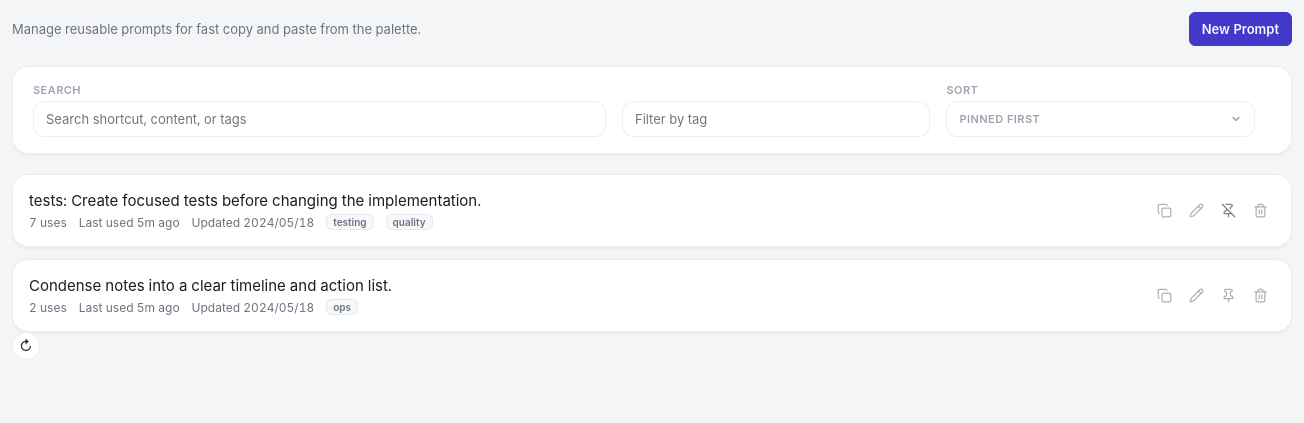
Test: PromptPalettePage › shows sanitized action feedback when prompt use tracking fails
expect the heading "tests: Create focused tests" is shown: met, box [29,191,481,210]
Click the button named "Copy" in the row of "quality": (1164, 210) [1149,196,1179,226]
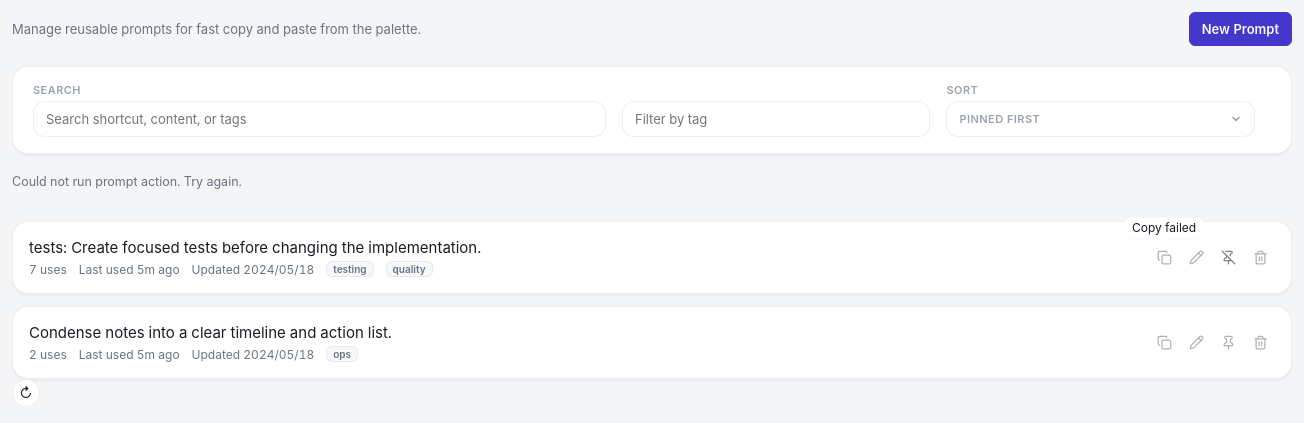
expect the text "Could not run prompt action. Try again." is shown: met, box [12,174,242,189]
